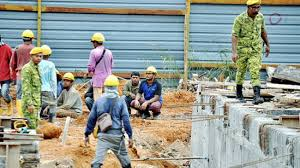helmet: (104, 75, 118, 87), (20, 28, 33, 38), (147, 66, 160, 75), (41, 44, 51, 55), (92, 33, 103, 42), (64, 72, 76, 80)
